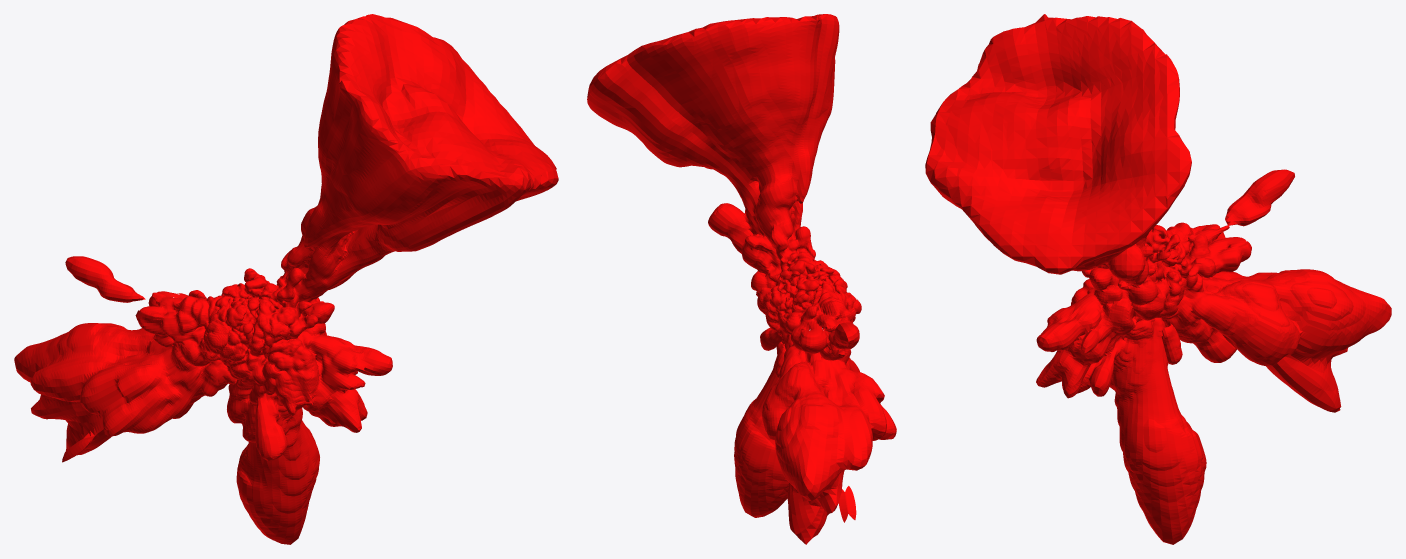
3 renders of one model, left to right at view 1: azimuth 30°, elevation 25°; view 2: azimuth 150°, elevation 25°; view 3: azimuth 270°, elevation 25°, orthographic. The views are drawn at different scales.
Parts seen in each view (by area): view 1: Renderer Node; view 2: Renderer Node; view 3: Renderer Node.
Part boxes in pixels (box(x1,y1,x2,y2)): Renderer Node: box(14, 14, 558, 544); Renderer Node: box(587, 14, 896, 544); Renderer Node: box(925, 14, 1391, 544).
Bounding box in the file's own units: 2.87e+16 × 3.6e+16 × 2.81e+16.
